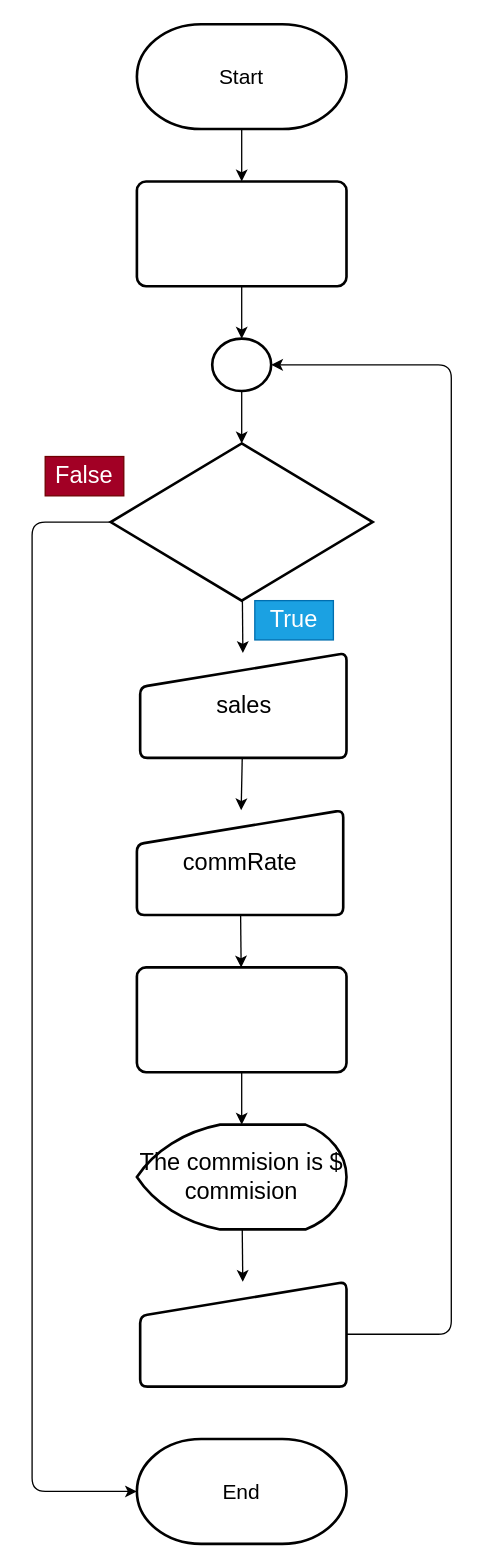
Some shapes in this 485 by 1567 pixel diagram are drawn without their labels. The box of each missing label's shape, as (x1, y1, x2, y2) in pixels:
commision = sales * commRate: (135, 965, 347, 1073)
keepGoing: (138, 1280, 347, 1387)
keepGoing = "y": (135, 179, 347, 287)
keepGoing == "y": (109, 441, 373, 601)
